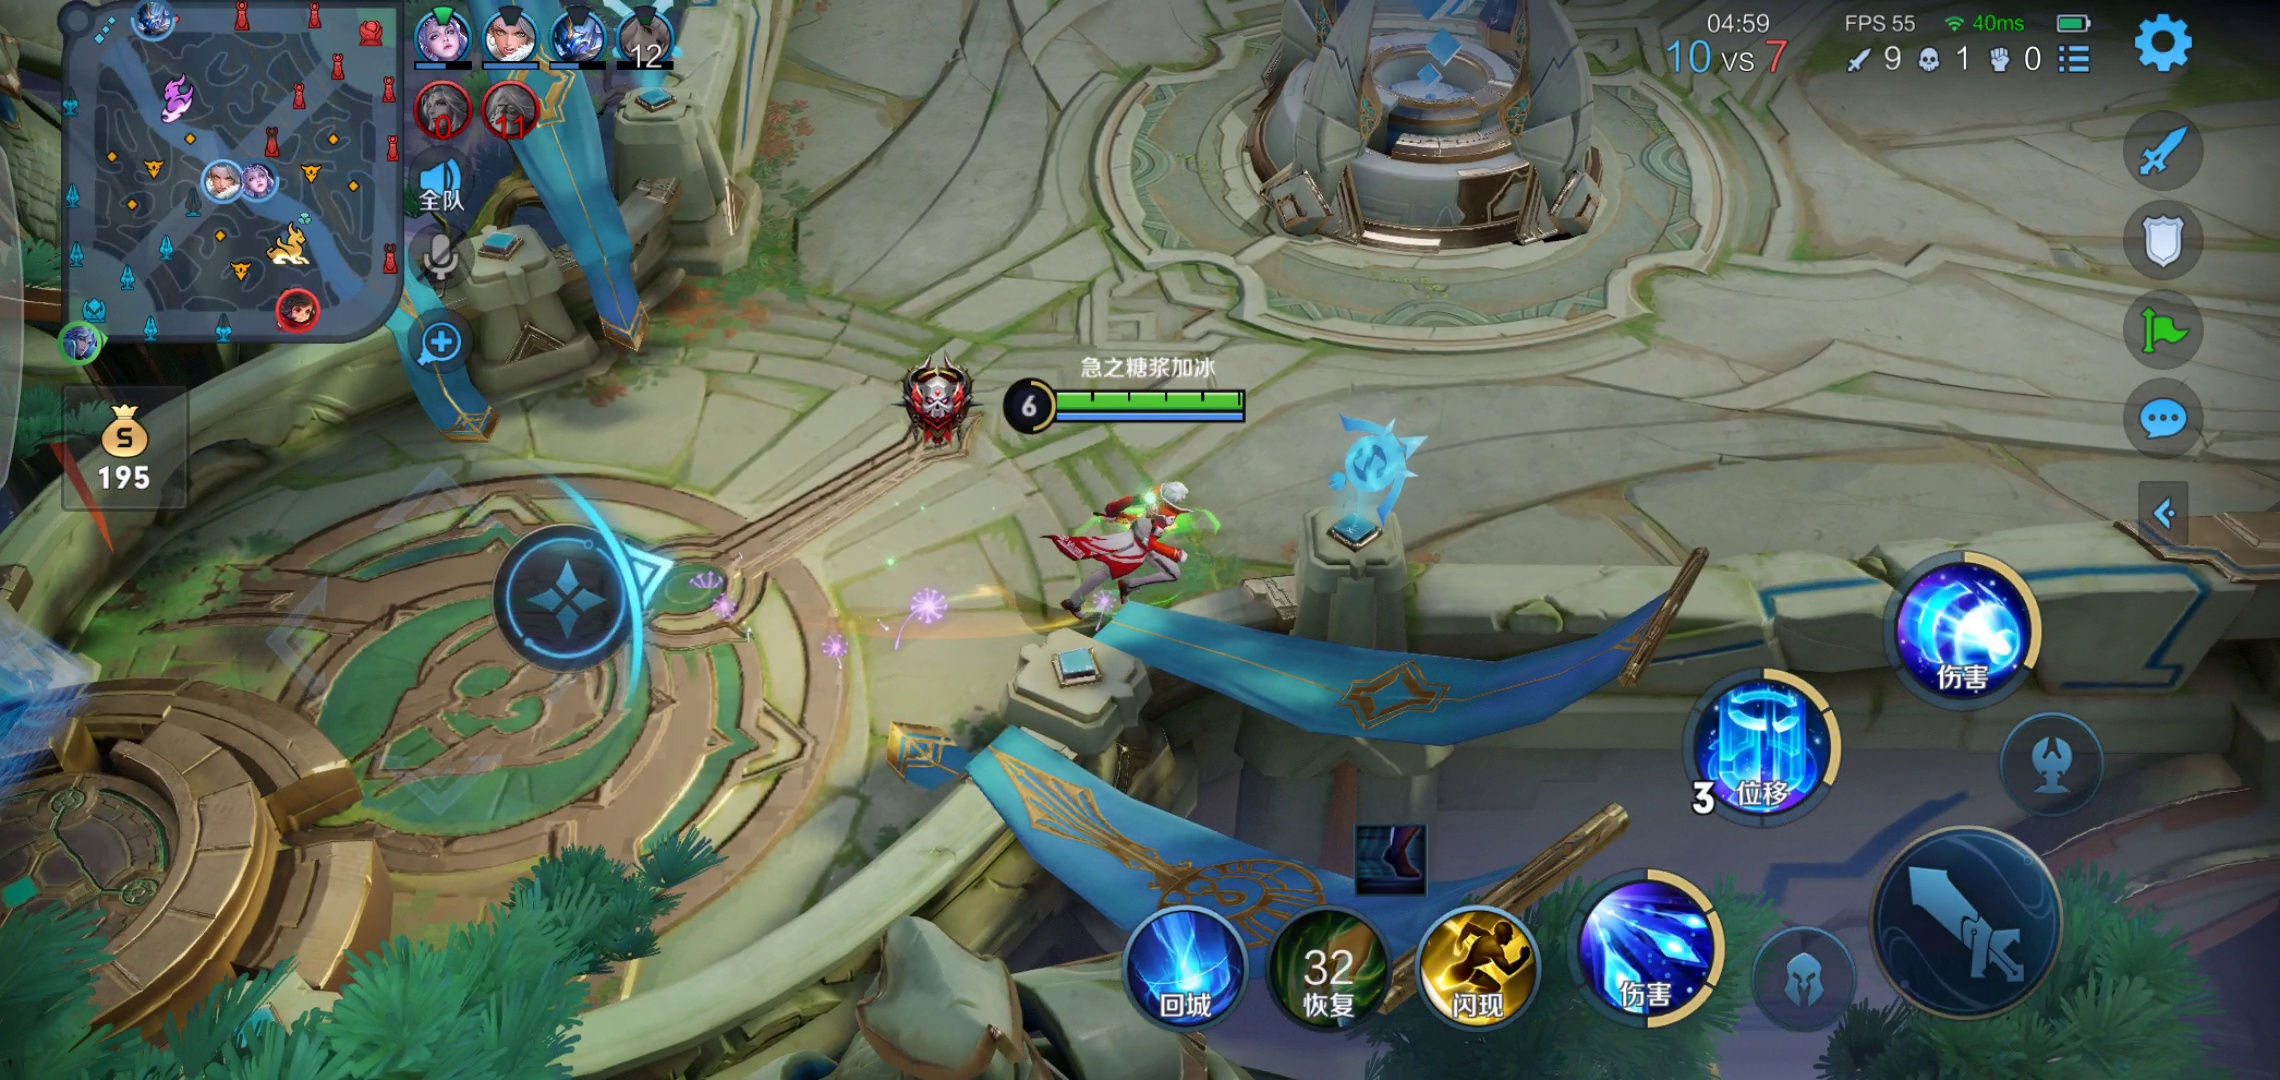crystal: (1236, 1, 1637, 265)
hero: (1035, 462, 1229, 605)
